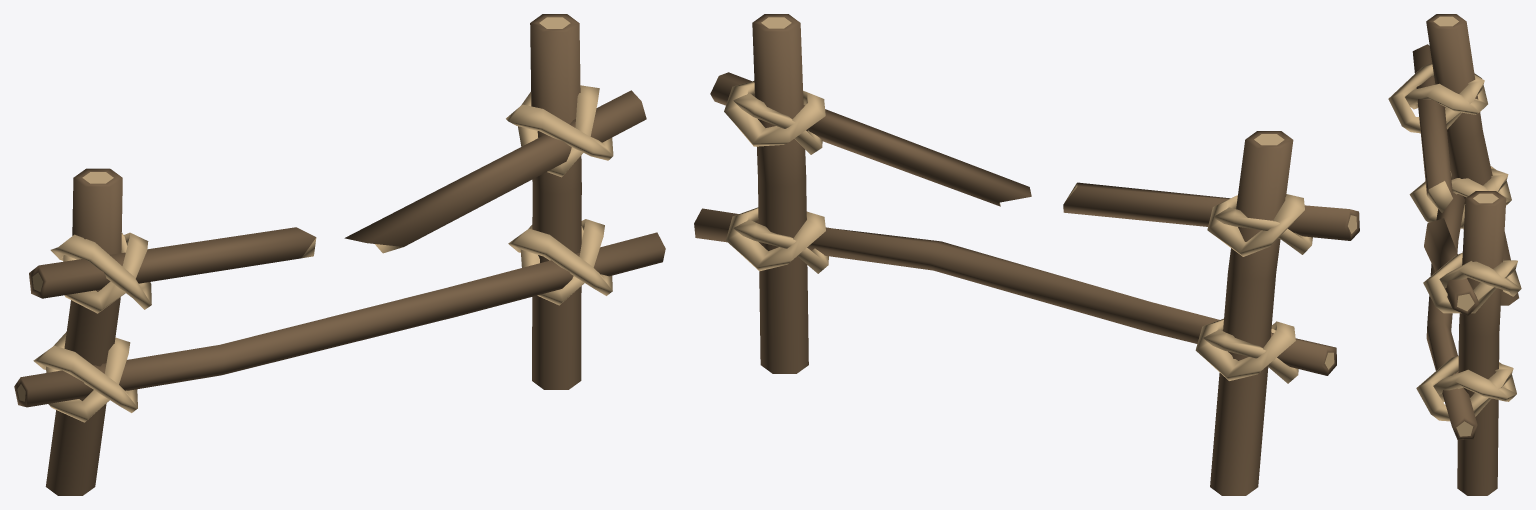
Rendered from rpgpp_av_fence_01a_2m.gltf.
3 renders of one model, left to right at view 1: azimuth 30°, elevation 25°; view 2: azimuth 150°, elevation 25°; view 3: azimuth 270°, elevation 25°, orthographic. The views are drawn at different scales.
Parts seen in each view (by area): view 1: rpgpp_av_fence_01a_2m; view 2: rpgpp_av_fence_01a_2m; view 3: rpgpp_av_fence_01a_2m.
Boxes of the visible parts, x1,y1,x2,y2 form: rpgpp_av_fence_01a_2m: (14, 14, 665, 495); rpgpp_av_fence_01a_2m: (694, 14, 1359, 495); rpgpp_av_fence_01a_2m: (1388, 14, 1521, 495).
Size of the model in its own units: 0.0284 by 0.0148 by 0.00614.
Materials: 1 (1 with a texture image).
